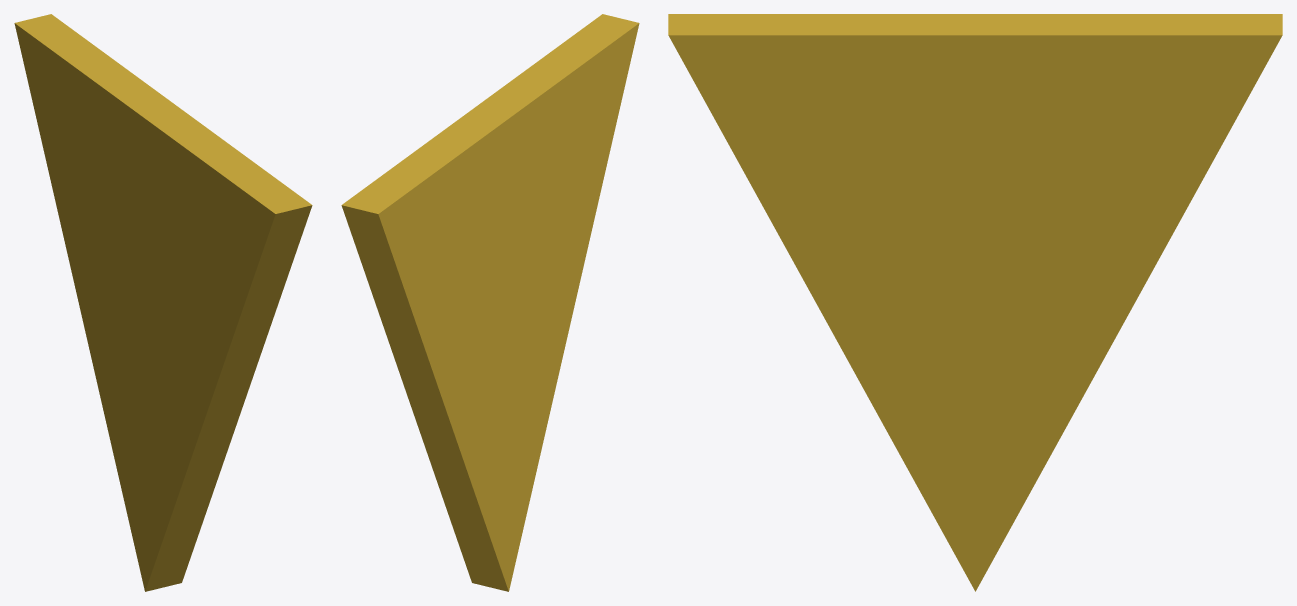
File: Arrow.fbx
3 views of the same model, side by side, from view 1: azimuth 30°, elevation 25°; view 2: azimuth 150°, elevation 25°; view 3: azimuth 270°, elevation 25° (orthographic). The views are drawn at different scales.
Parts seen in each view (by area): view 1: Arrow; view 2: Arrow; view 3: Arrow.
Boxes of the visible parts, x1,y1,x2,y2 form: Arrow: (14,14,312,591); Arrow: (341,14,639,591); Arrow: (668,14,1282,591).
Size of the model in its own units: 16.32 by 200 by 200.
